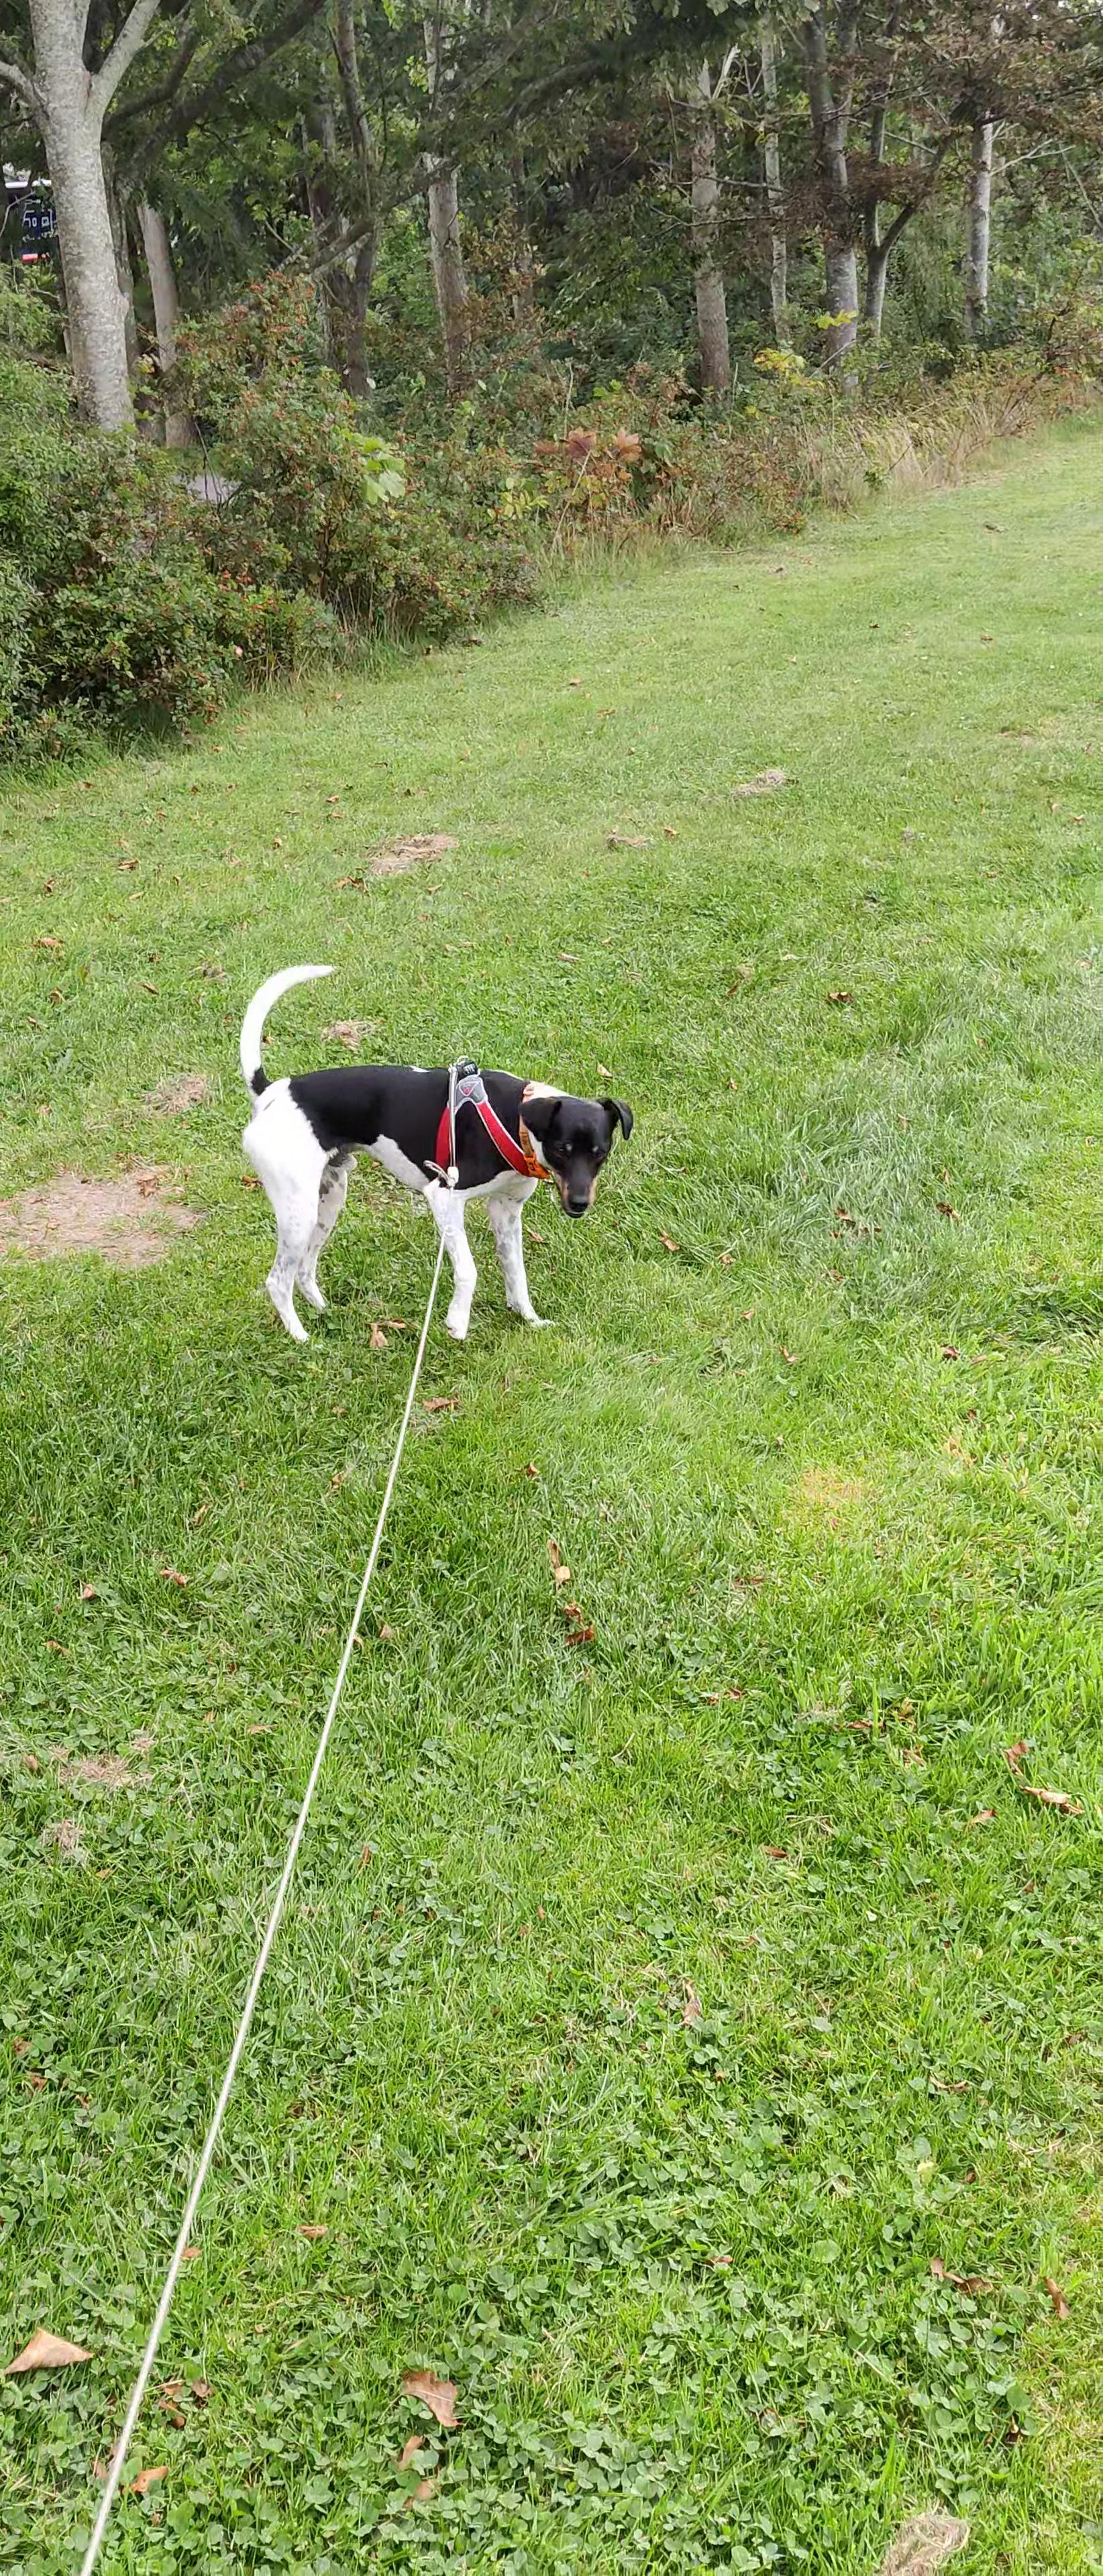Dog: (237, 958, 639, 1347)
